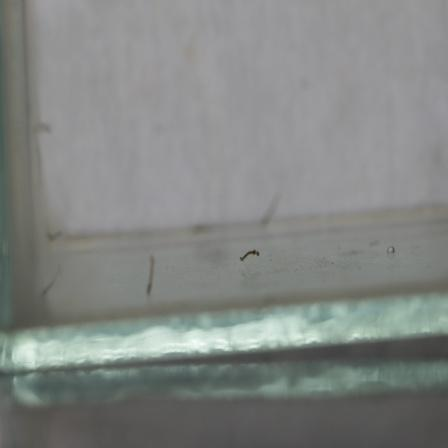Jentik-Nyamuk: (238, 246, 262, 269)
